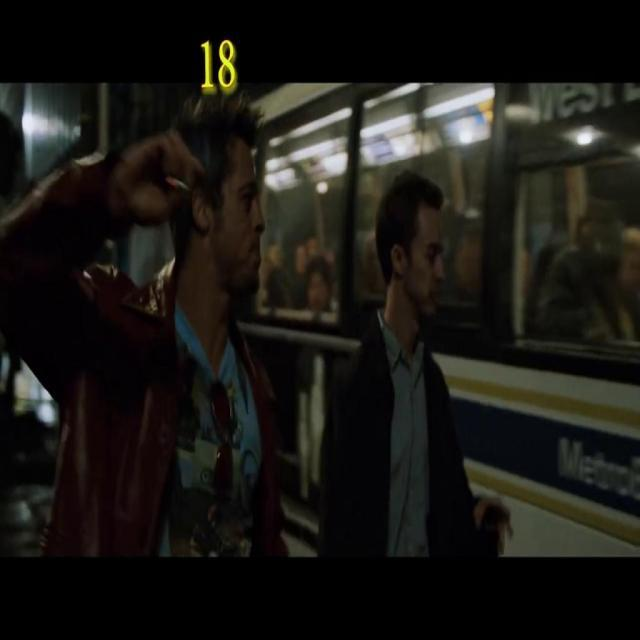smoking: (163, 172, 193, 196)
